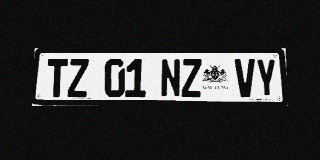0: (104, 59, 125, 97)
1: (125, 59, 146, 97)
N: (160, 59, 181, 97)
T: (46, 59, 68, 97)
V: (235, 59, 256, 97)
Y: (255, 59, 277, 97)
Z: (67, 59, 89, 97), (181, 59, 202, 97)
